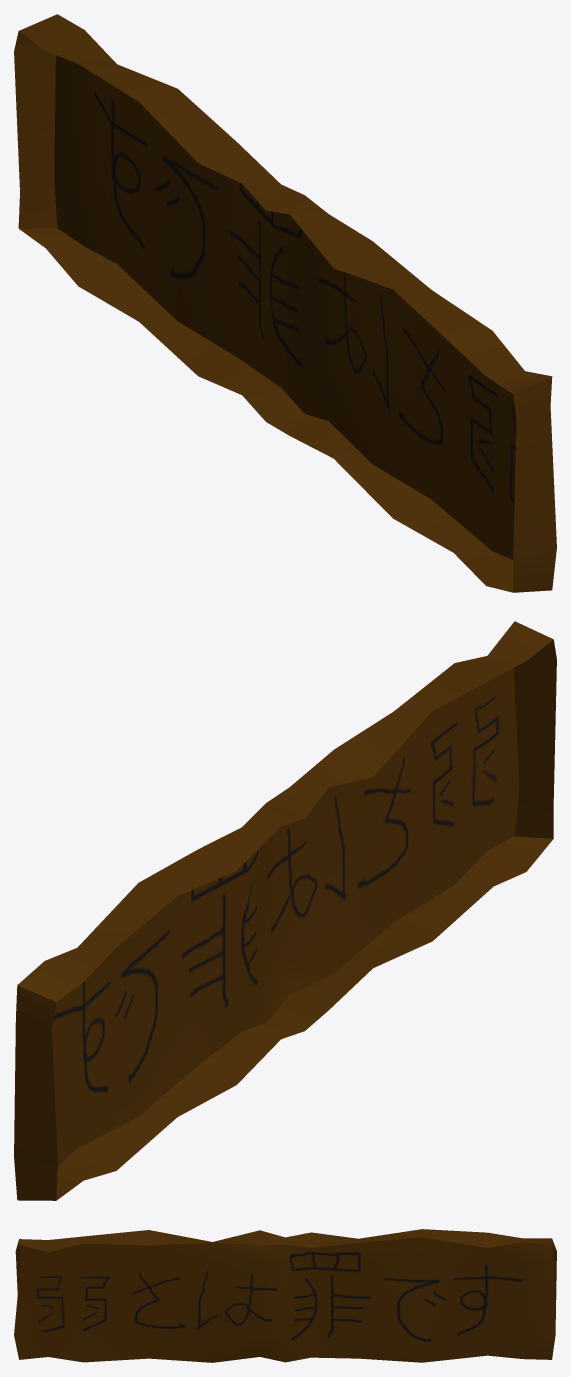
File: Slab.fbx
3 views of the same model, one above another, from view 1: azimuth 30°, elevation 25°; view 2: azimuth 150°, elevation 25°; view 3: azimuth 270°, elevation 25° (orthographic). The views are drawn at different scales.
Visible parts, largest first — view 1: Motivational_Slab; view 2: Motivational_Slab; view 3: Motivational_Slab.
Boxes of the visible parts, x1,y1,x2,y2 form: Motivational_Slab: [14, 14, 556, 592]; Motivational_Slab: [14, 621, 556, 1200]; Motivational_Slab: [14, 1229, 556, 1362].
Bounding box in the file's own units: 5.65 × 25.87 × 101.
